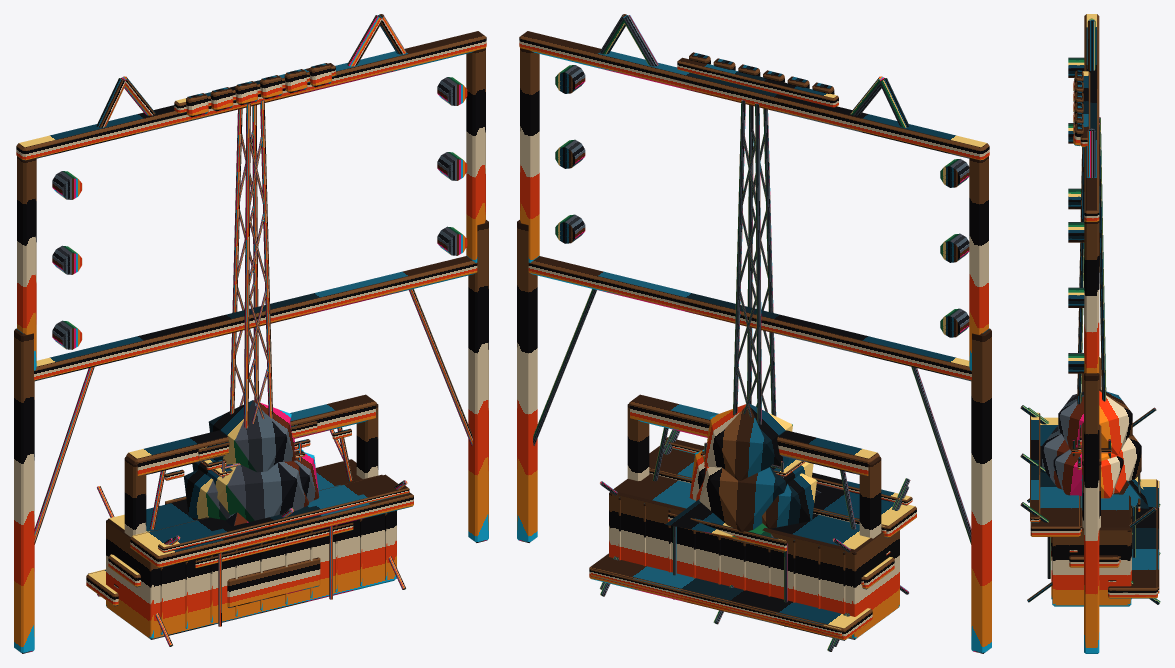
Rendered from monster-arena-environment-kit-v1.glb.
3 renders of one model, left to right at view 1: azimuth 30°, elevation 25°; view 2: azimuth 150°, elevation 25°; view 3: azimuth 270°, elevation 25°, orthographic. The views are drawn at different scales.
Parts seen in each view (by area): view 1: ArenaKit_ScoreboardFrame, ArenaKit_Container, ArenaKit_LightTower, ArenaKit_GrandstandBay, ArenaKit_ExteriorTree, ArenaKit_ServiceGate, ArenaKit_EventTent; view 2: ArenaKit_ScoreboardFrame, ArenaKit_Container, ArenaKit_GrandstandBay, ArenaKit_LightTower, ArenaKit_ExteriorTree, ArenaKit_ServiceGate, ArenaKit_EventTent; view 3: ArenaKit_ScoreboardFrame, ArenaKit_GrandstandBay, ArenaKit_ExteriorTree, ArenaKit_Container, ArenaKit_LightTower, ArenaKit_EventTent, ArenaKit_ServiceGate.
Boxes of the visible parts, bbox=[...] form: ArenaKit_ScoreboardFrame: bbox=[14, 14, 488, 653]; ArenaKit_Container: bbox=[106, 459, 396, 639]; ArenaKit_LightTower: bbox=[174, 63, 335, 428]; ArenaKit_GrandstandBay: bbox=[86, 429, 413, 646]; ArenaKit_ExteriorTree: bbox=[183, 400, 319, 521]; ArenaKit_ServiceGate: bbox=[124, 394, 378, 536]; ArenaKit_EventTent: bbox=[165, 496, 332, 626]; ArenaKit_ScoreboardFrame: bbox=[517, 14, 991, 653]; ArenaKit_Container: bbox=[609, 473, 899, 639]; ArenaKit_GrandstandBay: bbox=[589, 429, 916, 651]; ArenaKit_LightTower: bbox=[677, 52, 838, 424]; ArenaKit_ExteriorTree: bbox=[689, 403, 816, 531]; ArenaKit_ServiceGate: bbox=[627, 394, 881, 538]; ArenaKit_EventTent: bbox=[665, 490, 820, 626]; ArenaKit_ScoreboardFrame: bbox=[1068, 14, 1099, 653]; ArenaKit_GrandstandBay: bbox=[1020, 405, 1160, 604]; ArenaKit_ExteriorTree: bbox=[1042, 389, 1141, 498]; ArenaKit_Container: bbox=[1051, 494, 1131, 606]; ArenaKit_LightTower: bbox=[1073, 70, 1106, 404]; ArenaKit_EventTent: bbox=[1047, 473, 1148, 578]; ArenaKit_ServiceGate: bbox=[1077, 357, 1101, 528].
Size of the model in its own units: 18.96 by 21.32 by 5.62.
Materials: 2 (2 with a texture image).
